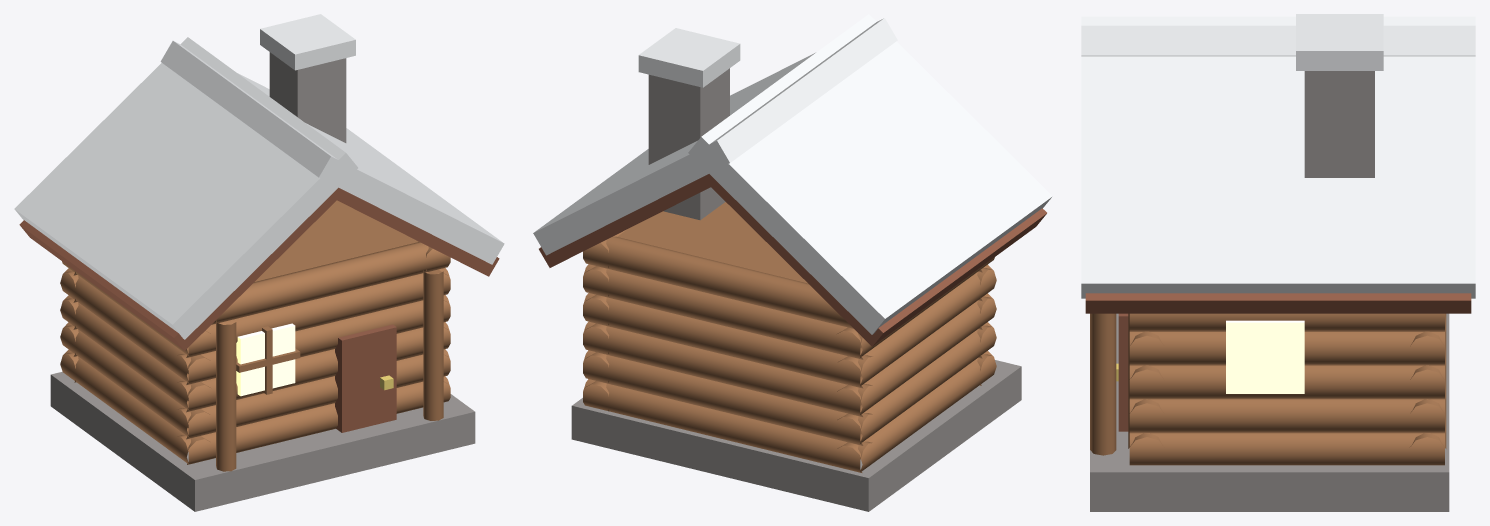
The model's file is cabin.glb.
3 views of the same model, side by side, from view 1: azimuth 30°, elevation 25°; view 2: azimuth 150°, elevation 25°; view 3: azimuth 270°, elevation 25° (orthographic). The views are drawn at different scales.
Size of the model in its own units: 1.09 by 1.11 by 0.9.
